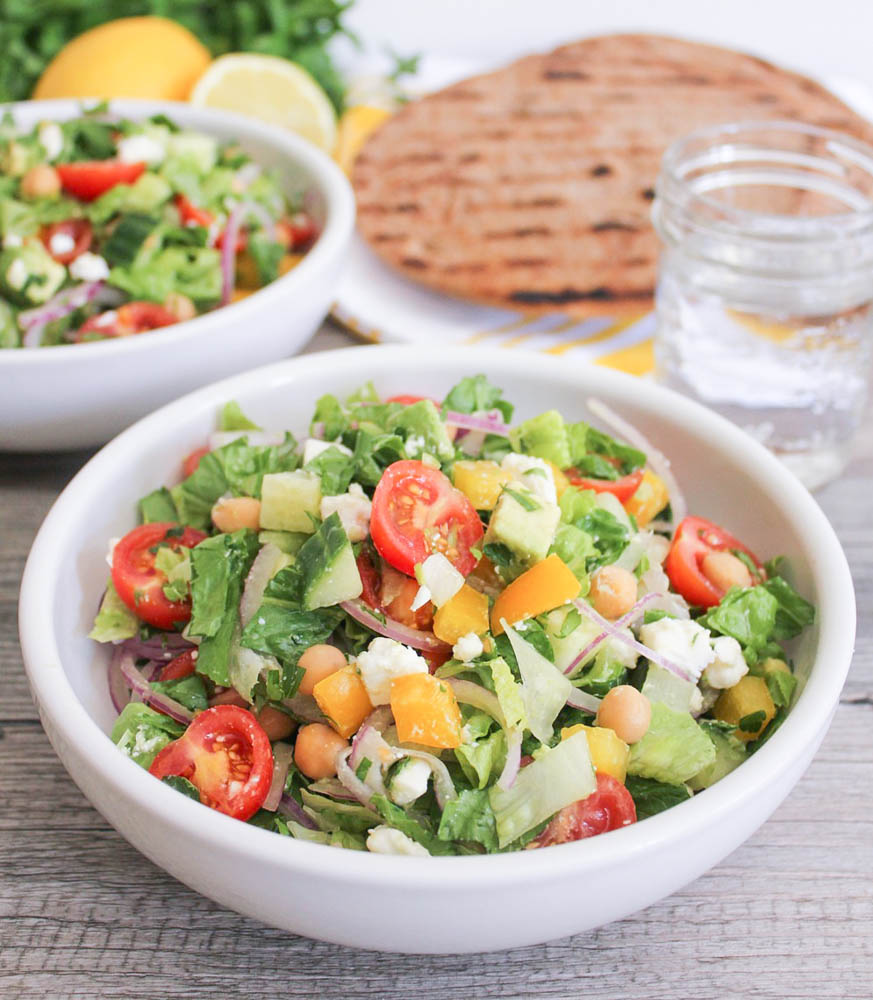chopped lettuce: (157, 463, 344, 730)
glass of water: (657, 125, 872, 467)
slice of bread: (364, 61, 873, 285)
